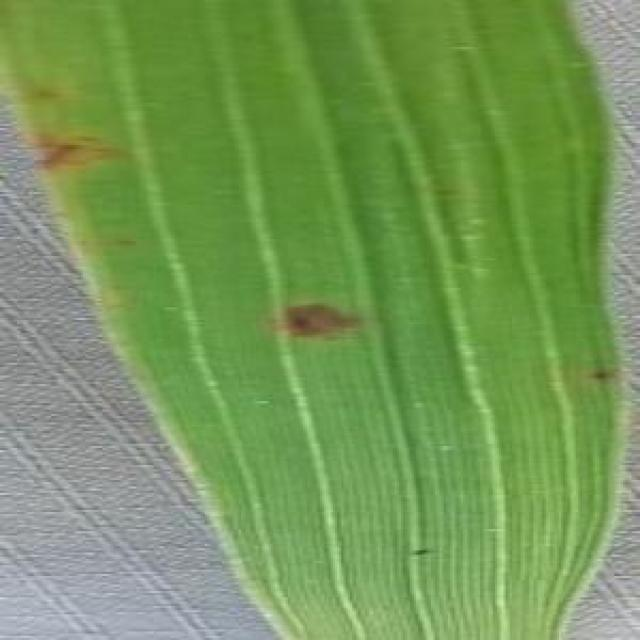brownspots: (266, 284, 362, 350), (42, 126, 114, 175)
